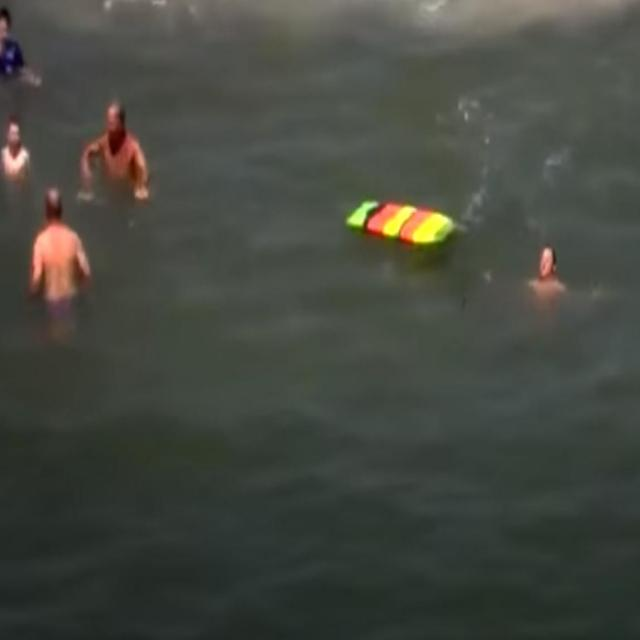Out of Water: (19, 183, 92, 301), (77, 90, 156, 196), (522, 238, 574, 306), (0, 119, 34, 179)
